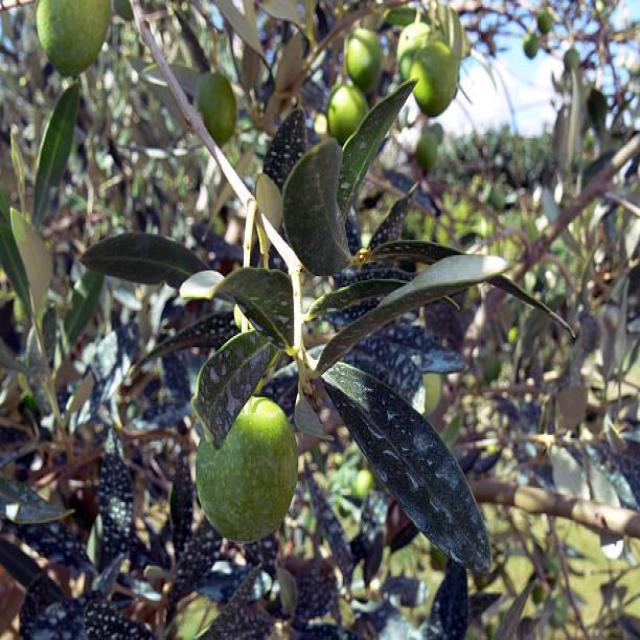Psyllid: (320, 363, 490, 569), (191, 332, 280, 448)
